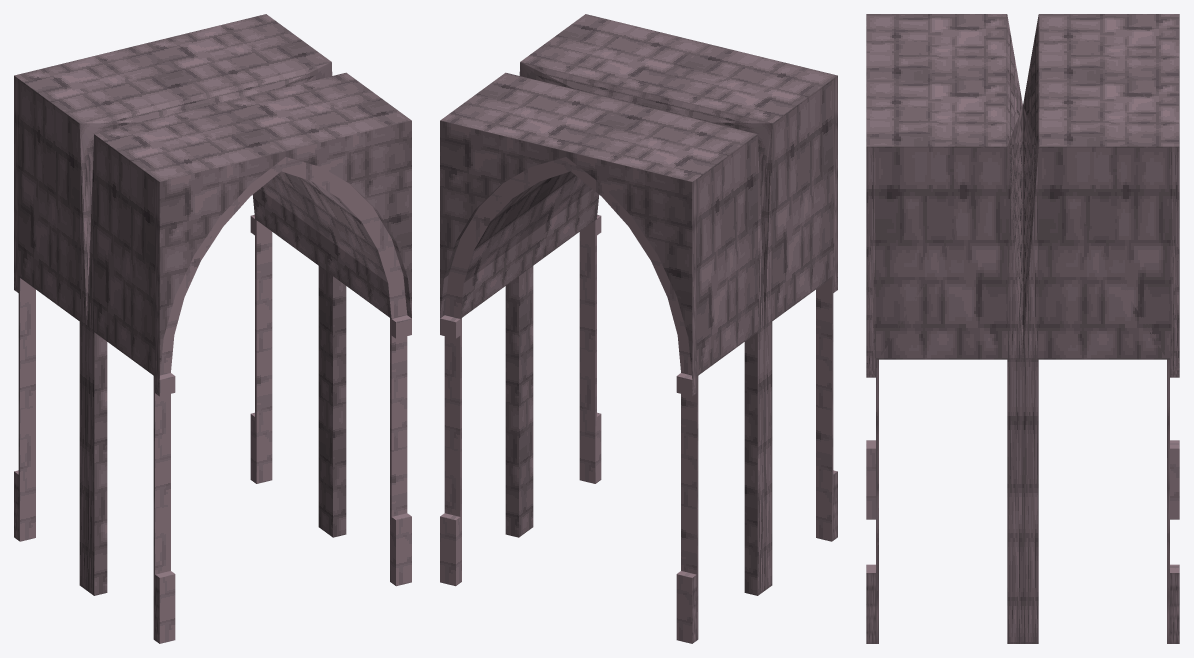
File: door_frame_normal_c.glb
3 renders of one model, left to right at view 1: azimuth 30°, elevation 25°; view 2: azimuth 150°, elevation 25°; view 3: azimuth 270°, elevation 25°, orthographic. The views are drawn at different scales.
Visible parts, largest first — view 1: portal_front, portal_back; view 2: portal_back, portal_front; view 3: portal_back, portal_front.
Boxes of the visible parts, x1,y1,x2,y2 form: portal_front: [87, 72, 411, 643]; portal_back: [14, 14, 332, 590]; portal_back: [440, 72, 764, 643]; portal_front: [519, 14, 837, 590]; portal_back: [1023, 14, 1179, 643]; portal_front: [866, 14, 1022, 643].
Size of the model in its own units: 2 by 3.5 by 2.
1 material, 1 textured.
